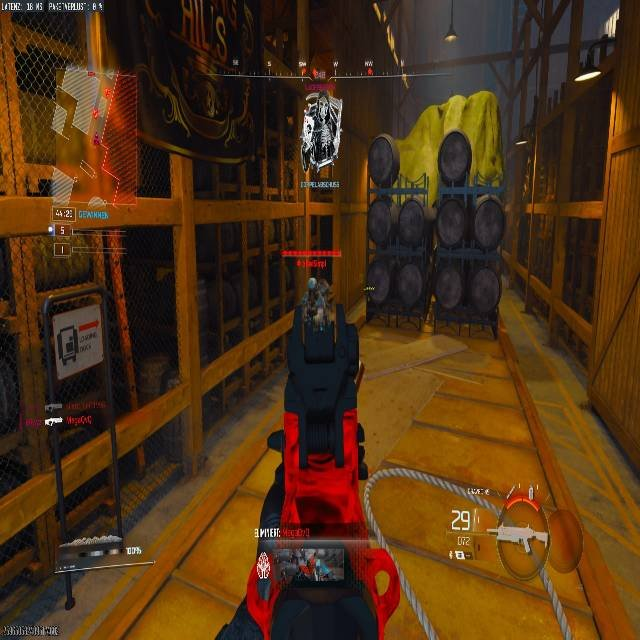head: (308, 271, 324, 293), (307, 277, 317, 291)
player: (301, 90, 342, 173), (302, 276, 330, 331)
